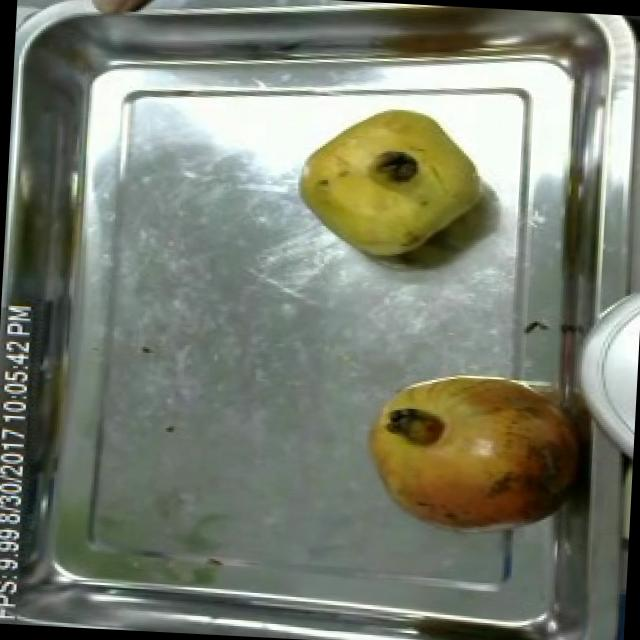fruit: (346, 356, 594, 556), (284, 98, 498, 271), (72, 0, 176, 24)
